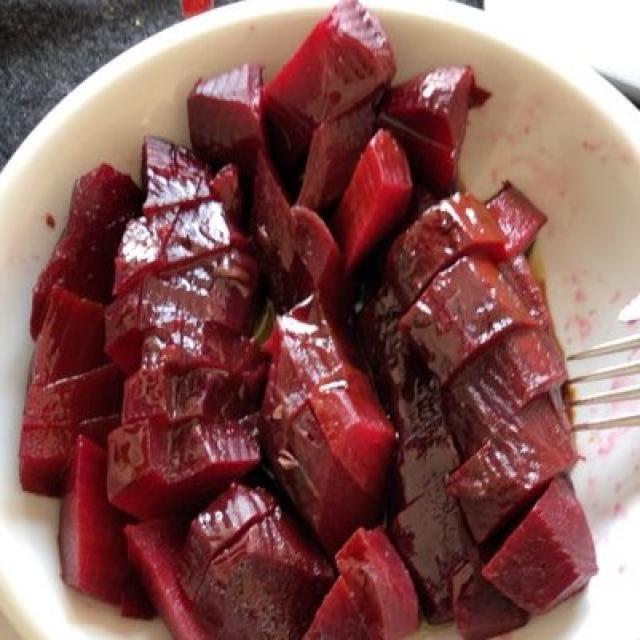beetroot: (17, 11, 587, 638)
